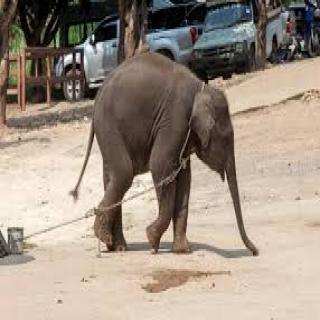Elephant: (69, 49, 263, 275)
